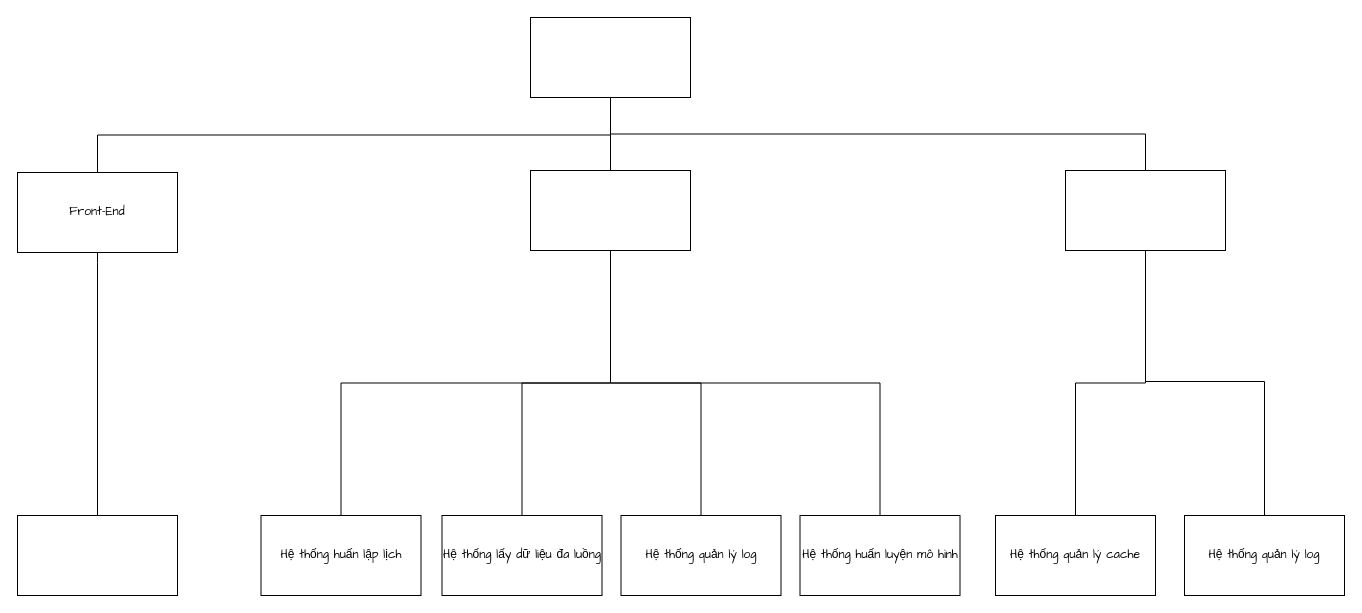
Some shapes in this 1362 by 613 pixel diagram are drawn without their labels. The box of each missing label's shape, as (x1, y1, x2, y2) in pixels:
AI Server: (530, 170, 690, 250)
API SERVER: (1064, 170, 1226, 250)
Hệ thống Recommend: (530, 16, 690, 98)
Hệ thống đăng nhập: (16, 514, 178, 596)
